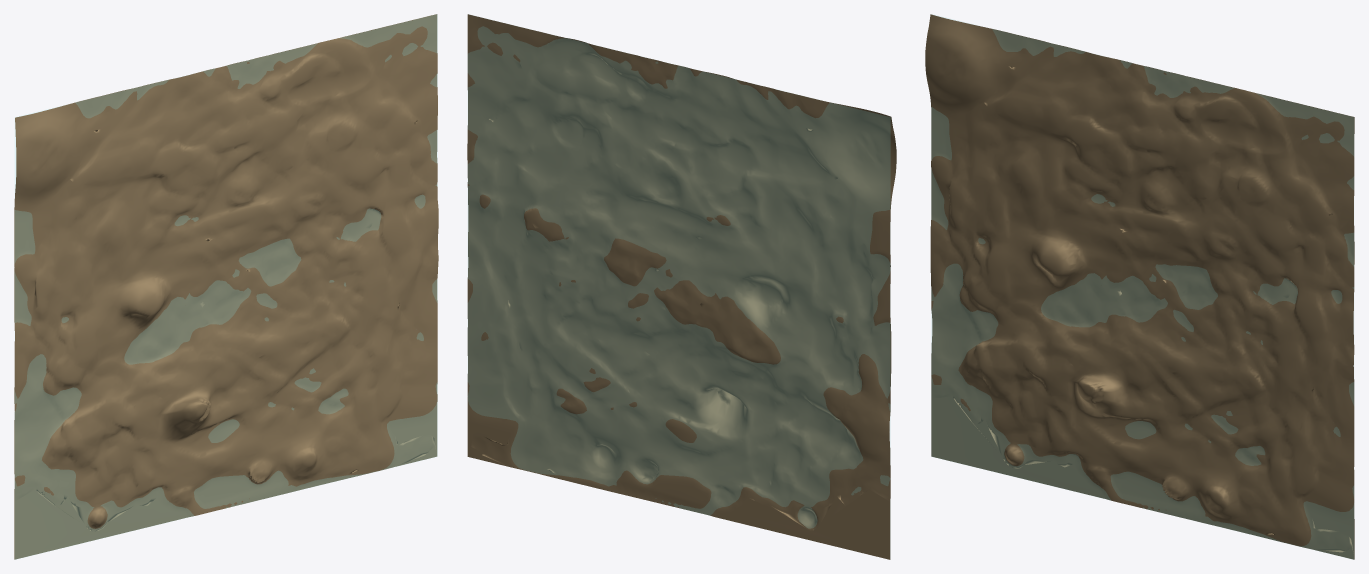
Rendered from terrain2.fbx.
3 renders of one model, left to right at view 1: azimuth 30°, elevation 25°; view 2: azimuth 150°, elevation 25°; view 3: azimuth 330°, elevation 25°, orthographic.
Parts seen in each view (by area): view 1: Plane, Plane_001; view 2: Plane, Plane_001; view 3: Plane, Plane_001.
Boxes of the visible parts, box(x1,y1,x2,y2) form: Plane: box(14, 14, 438, 559); Plane_001: box(15, 15, 436, 559); Plane: box(467, 14, 896, 559); Plane_001: box(468, 26, 889, 527); Plane: box(925, 14, 1354, 559); Plane_001: box(932, 16, 1353, 559).
Bounding box in the file's own units: 20.11 × 20.02 × 1.39.
